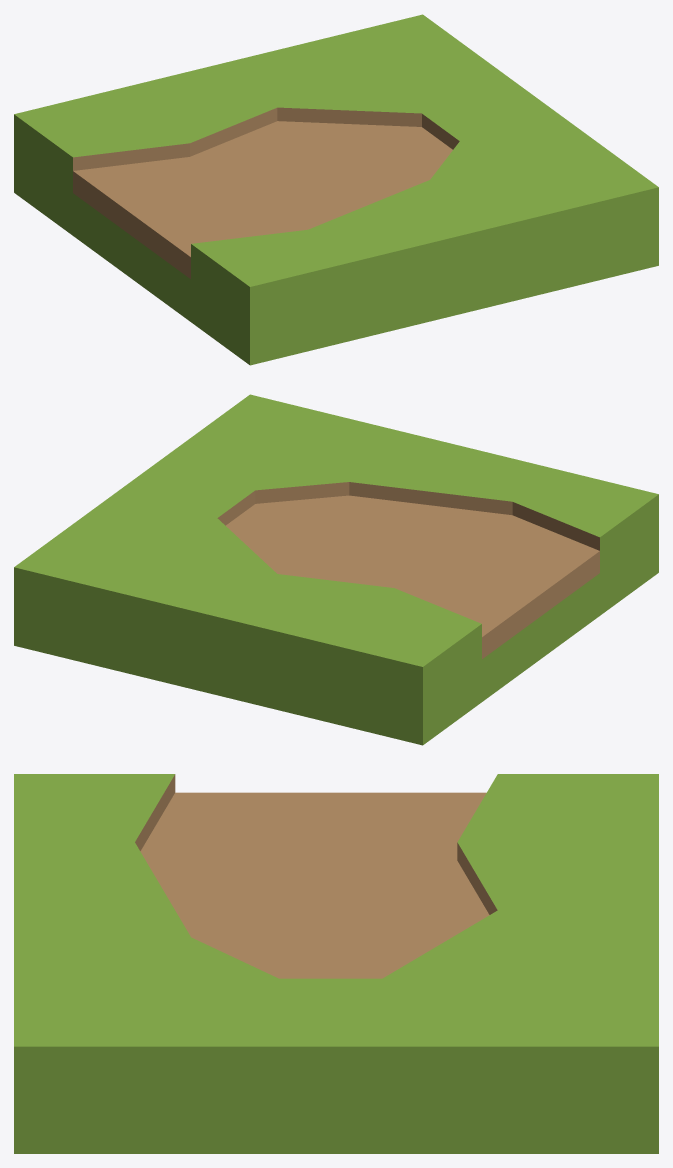
The model's file is tile239.fbx.
3 views of the same model, one above another, from view 1: azimuth 30°, elevation 25°; view 2: azimuth 150°, elevation 25°; view 3: azimuth 270°, elevation 25° (orthographic). The views are drawn at different scales.
Visible parts, largest first — view 1: tile239; view 2: tile239; view 3: tile239.
Boxes of the visible parts, x1,y1,x2,y2 form: tile239: (14, 14, 658, 365); tile239: (14, 394, 658, 745); tile239: (14, 774, 658, 1153).
Bounding box in the file's own units: 10 × 1.83 × 10.
